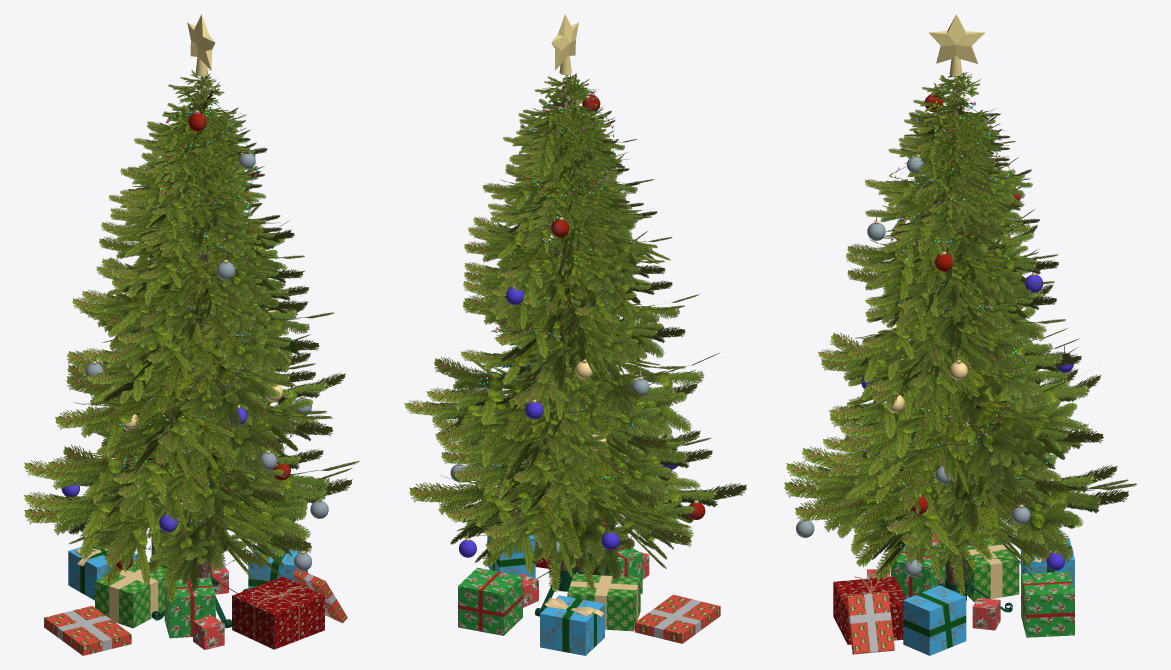
The model's file is obj_2_5k_followers_christmas_spe_1fd1cd.glb.
3 views of the same model, side by side, from view 1: azimuth 30°, elevation 25°; view 2: azimuth 150°, elevation 25°; view 3: azimuth 270°, elevation 25° (orthographic). The views are drawn at different scales.
Visible parts, largest first — view 1: obj_2_5k_followers_christmas_spe_1fd1cd; view 2: obj_2_5k_followers_christmas_spe_1fd1cd; view 3: obj_2_5k_followers_christmas_spe_1fd1cd.
Part boxes in pixels (<box>): obj_2_5k_followers_christmas_spe_1fd1cd: <box>24,14,359,655</box>; obj_2_5k_followers_christmas_spe_1fd1cd: <box>404,14,746,655</box>; obj_2_5k_followers_christmas_spe_1fd1cd: <box>784,14,1136,655</box>.
Bounding box in the file's own units: 1.04 × 1.8 × 1.04.
Materials: 5 (4 with a texture image).
